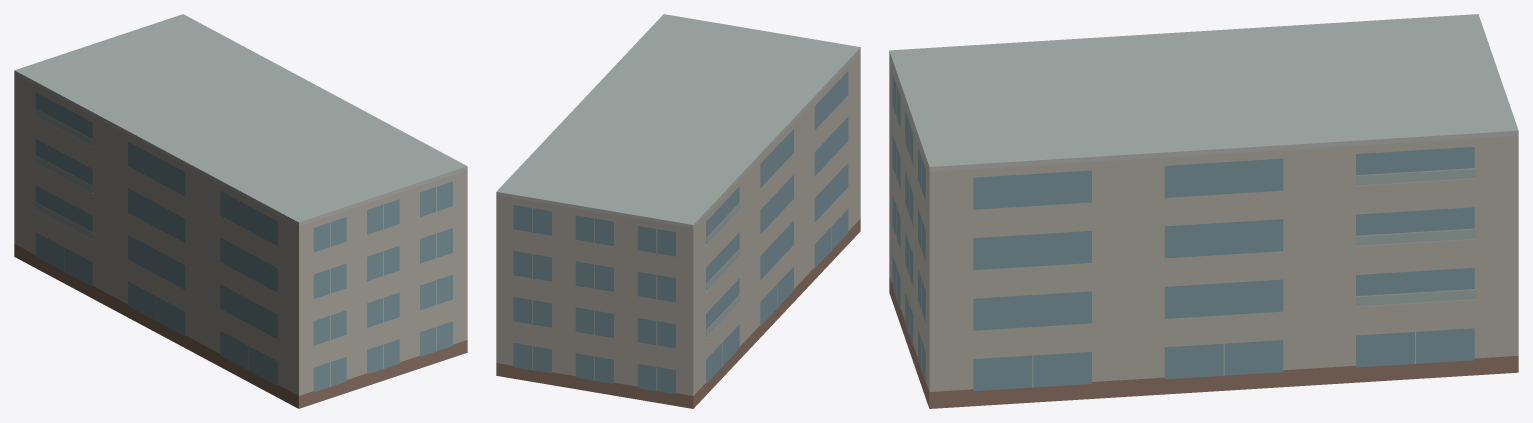
The model's file is residential-eaae17b5-0c09-40b6-ab48-781ea7e25551.glb.
3 views of the same model, side by side, from view 1: azimuth 30°, elevation 25°; view 2: azimuth 150°, elevation 25°; view 3: azimuth 270°, elevation 25° (orthographic). The views are drawn at different scales.
Parts seen in each view (by area): view 1: residential-eaae17b5-0c09-40b6-ab48-781ea7e25551.tmp; view 2: residential-eaae17b5-0c09-40b6-ab48-781ea7e25551.tmp; view 3: residential-eaae17b5-0c09-40b6-ab48-781ea7e25551.tmp.
Part boxes in pixels (x1=…): residential-eaae17b5-0c09-40b6-ab48-781ea7e25551.tmp: x1=14, y1=14, x2=467, y2=408; residential-eaae17b5-0c09-40b6-ab48-781ea7e25551.tmp: x1=496, y1=14, x2=860, y2=408; residential-eaae17b5-0c09-40b6-ab48-781ea7e25551.tmp: x1=889, y1=14, x2=1518, y2=408.
Size of the model in its own units: 16.56 by 12.2 by 28.78.
